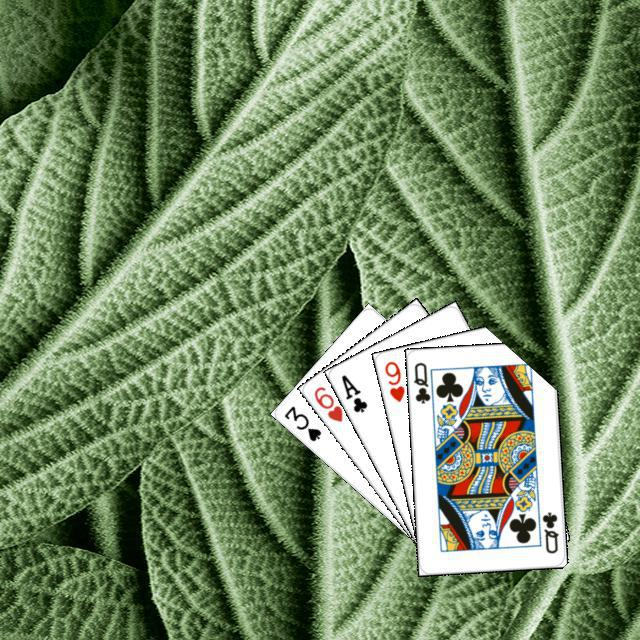3s: (279, 401, 323, 443)
6h: (309, 381, 345, 424)
9h: (380, 356, 406, 404)
Ac: (336, 369, 369, 414)
Qc: (409, 357, 435, 409), (537, 507, 560, 555)
